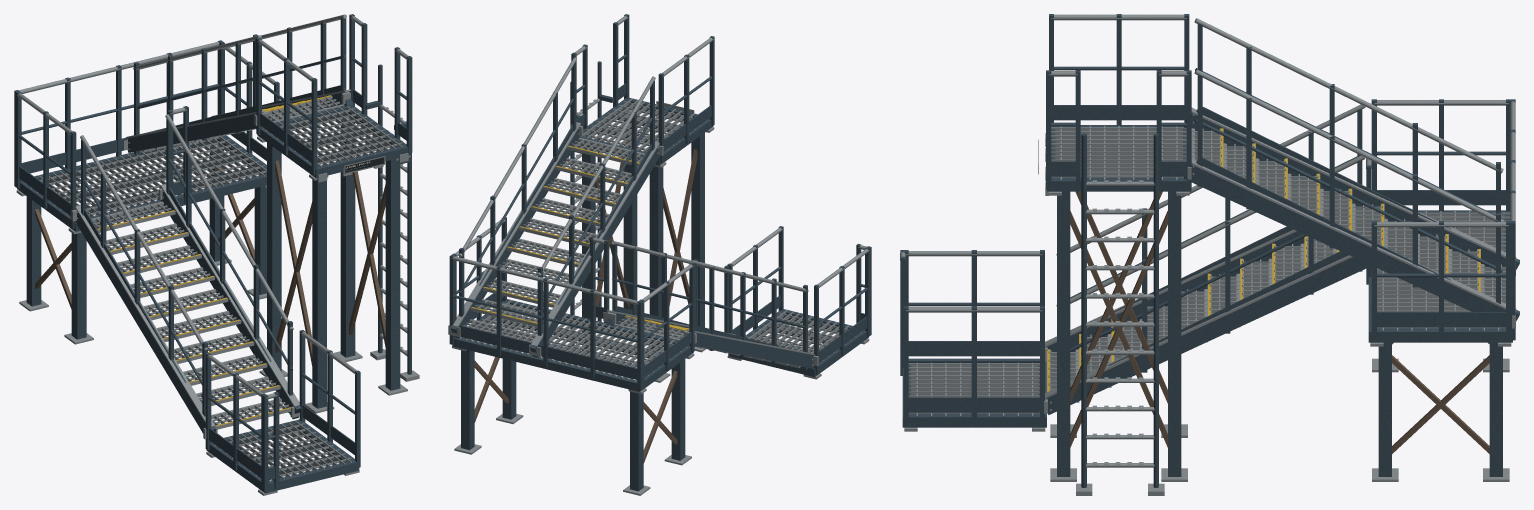
The model's file is ProjectZ_ESC30_FireEscape.glb.
3 renders of one model, left to right at view 1: azimuth 30°, elevation 25°; view 2: azimuth 150°, elevation 25°; view 3: azimuth 270°, elevation 25°, orthographic. The views are drawn at different scales.
Visible parts, largest first — view 1: Landing_FourVerticalSupportColumns (×2), Landing_ActualOpenMeshGrating (×3), Landing_Perimeter_BoxSteel_Beams (×3), Landing_SupportCrossBraces (×2), Flight_Railing_Inside_Posts (×2), Flight_Railing_Outside_Posts (×2), Flight_Stringer_CChannel_Right (×2), Ladder_Stiles_TwoSeparateSteelTubeColumns, Flight_Stringer_CChannel_Left, Flight_Railing_Inside_RoundTopRail (×2), Landing_Guard_InnerWest_Posts, Landing_Guard_WestPerimeter_Posts (+39 smaller); view 2: Landing_FourVerticalSupportColumns (×2), Landing_ActualOpenMeshGrating (×3), Landing_Perimeter_BoxSteel_Beams (×3), Flight_Railing_Outside_Posts (×2), Landing_SupportCrossBraces (×2), Flight_Railing_Inside_Posts (×2), Flight_Stringer_CChannel_Left (×2), Landing_Guard_NorthPerimeter_Posts, Landing_Guard_NorthPerimeter_ToeGuard, Flight_Stringer_CChannel_Right, Flight_Railing_Outside_RoundTopRail (×2), Landing_Guard_InnerWest_Posts (+31 smaller); view 3: Landing_ActualOpenMeshGrating (×3), Landing_FourVerticalSupportColumns (×2), Flight_Stringer_CChannel_Right (×2), Flight_Stringer_CChannel_Left (×2), Landing_Perimeter_BoxSteel_Beams (×3), Landing_SupportCrossBraces (×2), Ladder_Stiles_TwoSeparateSteelTubeColumns, Ladder_Rungs_280mmCentres, Flight_Railing_Outside_Posts (×2), Flight_Railing_Inside_RoundTopRail (×2), Flight_Railing_Outside_RoundTopRail (×2), Flight_Railing_Inside_Posts (×2) (+36 smaller).
Part boxes in pixels (x1,y1,x2,y2): Landing_FourVerticalSupportColumns (×2): (26,119,400,408); Landing_ActualOpenMeshGrating (×3): (25,105,402,482); Landing_Perimeter_BoxSteel_Beams (×3): (17,105,409,493); Landing_SupportCrossBraces (×2): (35,146,385,365); Flight_Railing_Inside_Posts (×2): (134,38,292,412); Flight_Railing_Outside_Posts (×2): (81,17,346,416); Flight_Stringer_CChannel_Right (×2): (127,112,301,419); Ladder_Stiles_TwoSeparateSteelTubeColumns: (378,64,411,374); Flight_Stringer_CChannel_Left: (75,211,216,433); Flight_Railing_Inside_RoundTopRail (×2): (133,35,293,330); Landing_Guard_InnerWest_Posts: (256,37,317,175); Landing_Guard_WestPerimeter_Posts: (16,91,76,228); Landing_FourVerticalSupportColumns (×2): (461,111,704,491); Landing_ActualOpenMeshGrating (×3): (459,98,861,381); Landing_Perimeter_BoxSteel_Beams (×3): (452,97,868,391); Flight_Railing_Outside_Posts (×2): (459,61,807,370); Landing_SupportCrossBraces (×2): (474,138,697,463); Flight_Railing_Inside_Posts (×2): (537,80,729,335); Flight_Stringer_CChannel_Left (×2): (451,129,813,368); Landing_Guard_NorthPerimeter_Posts: (449,255,642,390); Landing_Guard_NorthPerimeter_ToeGuard: (458,325,637,379); Flight_Stringer_CChannel_Right: (530,146,659,357); Flight_Railing_Outside_RoundTopRail (×2): (458,57,808,292); Landing_Guard_InnerWest_Posts: (658,36,714,162); Landing_ActualOpenMeshGrating (×3): (908,125,1510,415); Landing_FourVerticalSupportColumns (×2): (1057,191,1502,476); Flight_Stringer_CChannel_Right (×2): (1045,113,1519,414); Flight_Stringer_CChannel_Left (×2): (1045,165,1519,351); Landing_Perimeter_BoxSteel_Beams (×3): (902,125,1512,427); Landing_SupportCrossBraces (×2): (1070,191,1489,453); Ladder_Stiles_TwoSeparateSteelTubeColumns: (1081,133,1158,487); Ladder_Rungs_280mmCentres: (1085,181,1154,467); Flight_Railing_Outside_Posts (×2): (1142,75,1500,303); Flight_Railing_Inside_RoundTopRail (×2): (1056,18,1503,306); Flight_Railing_Outside_RoundTopRail (×2): (1056,69,1503,255); Flight_Railing_Inside_Posts (×2): (1142,24,1500,372).
Bounding box in the file's own units: 2.91 × 4.23 × 5.59.
Materials: 6 (5 with a texture image).
